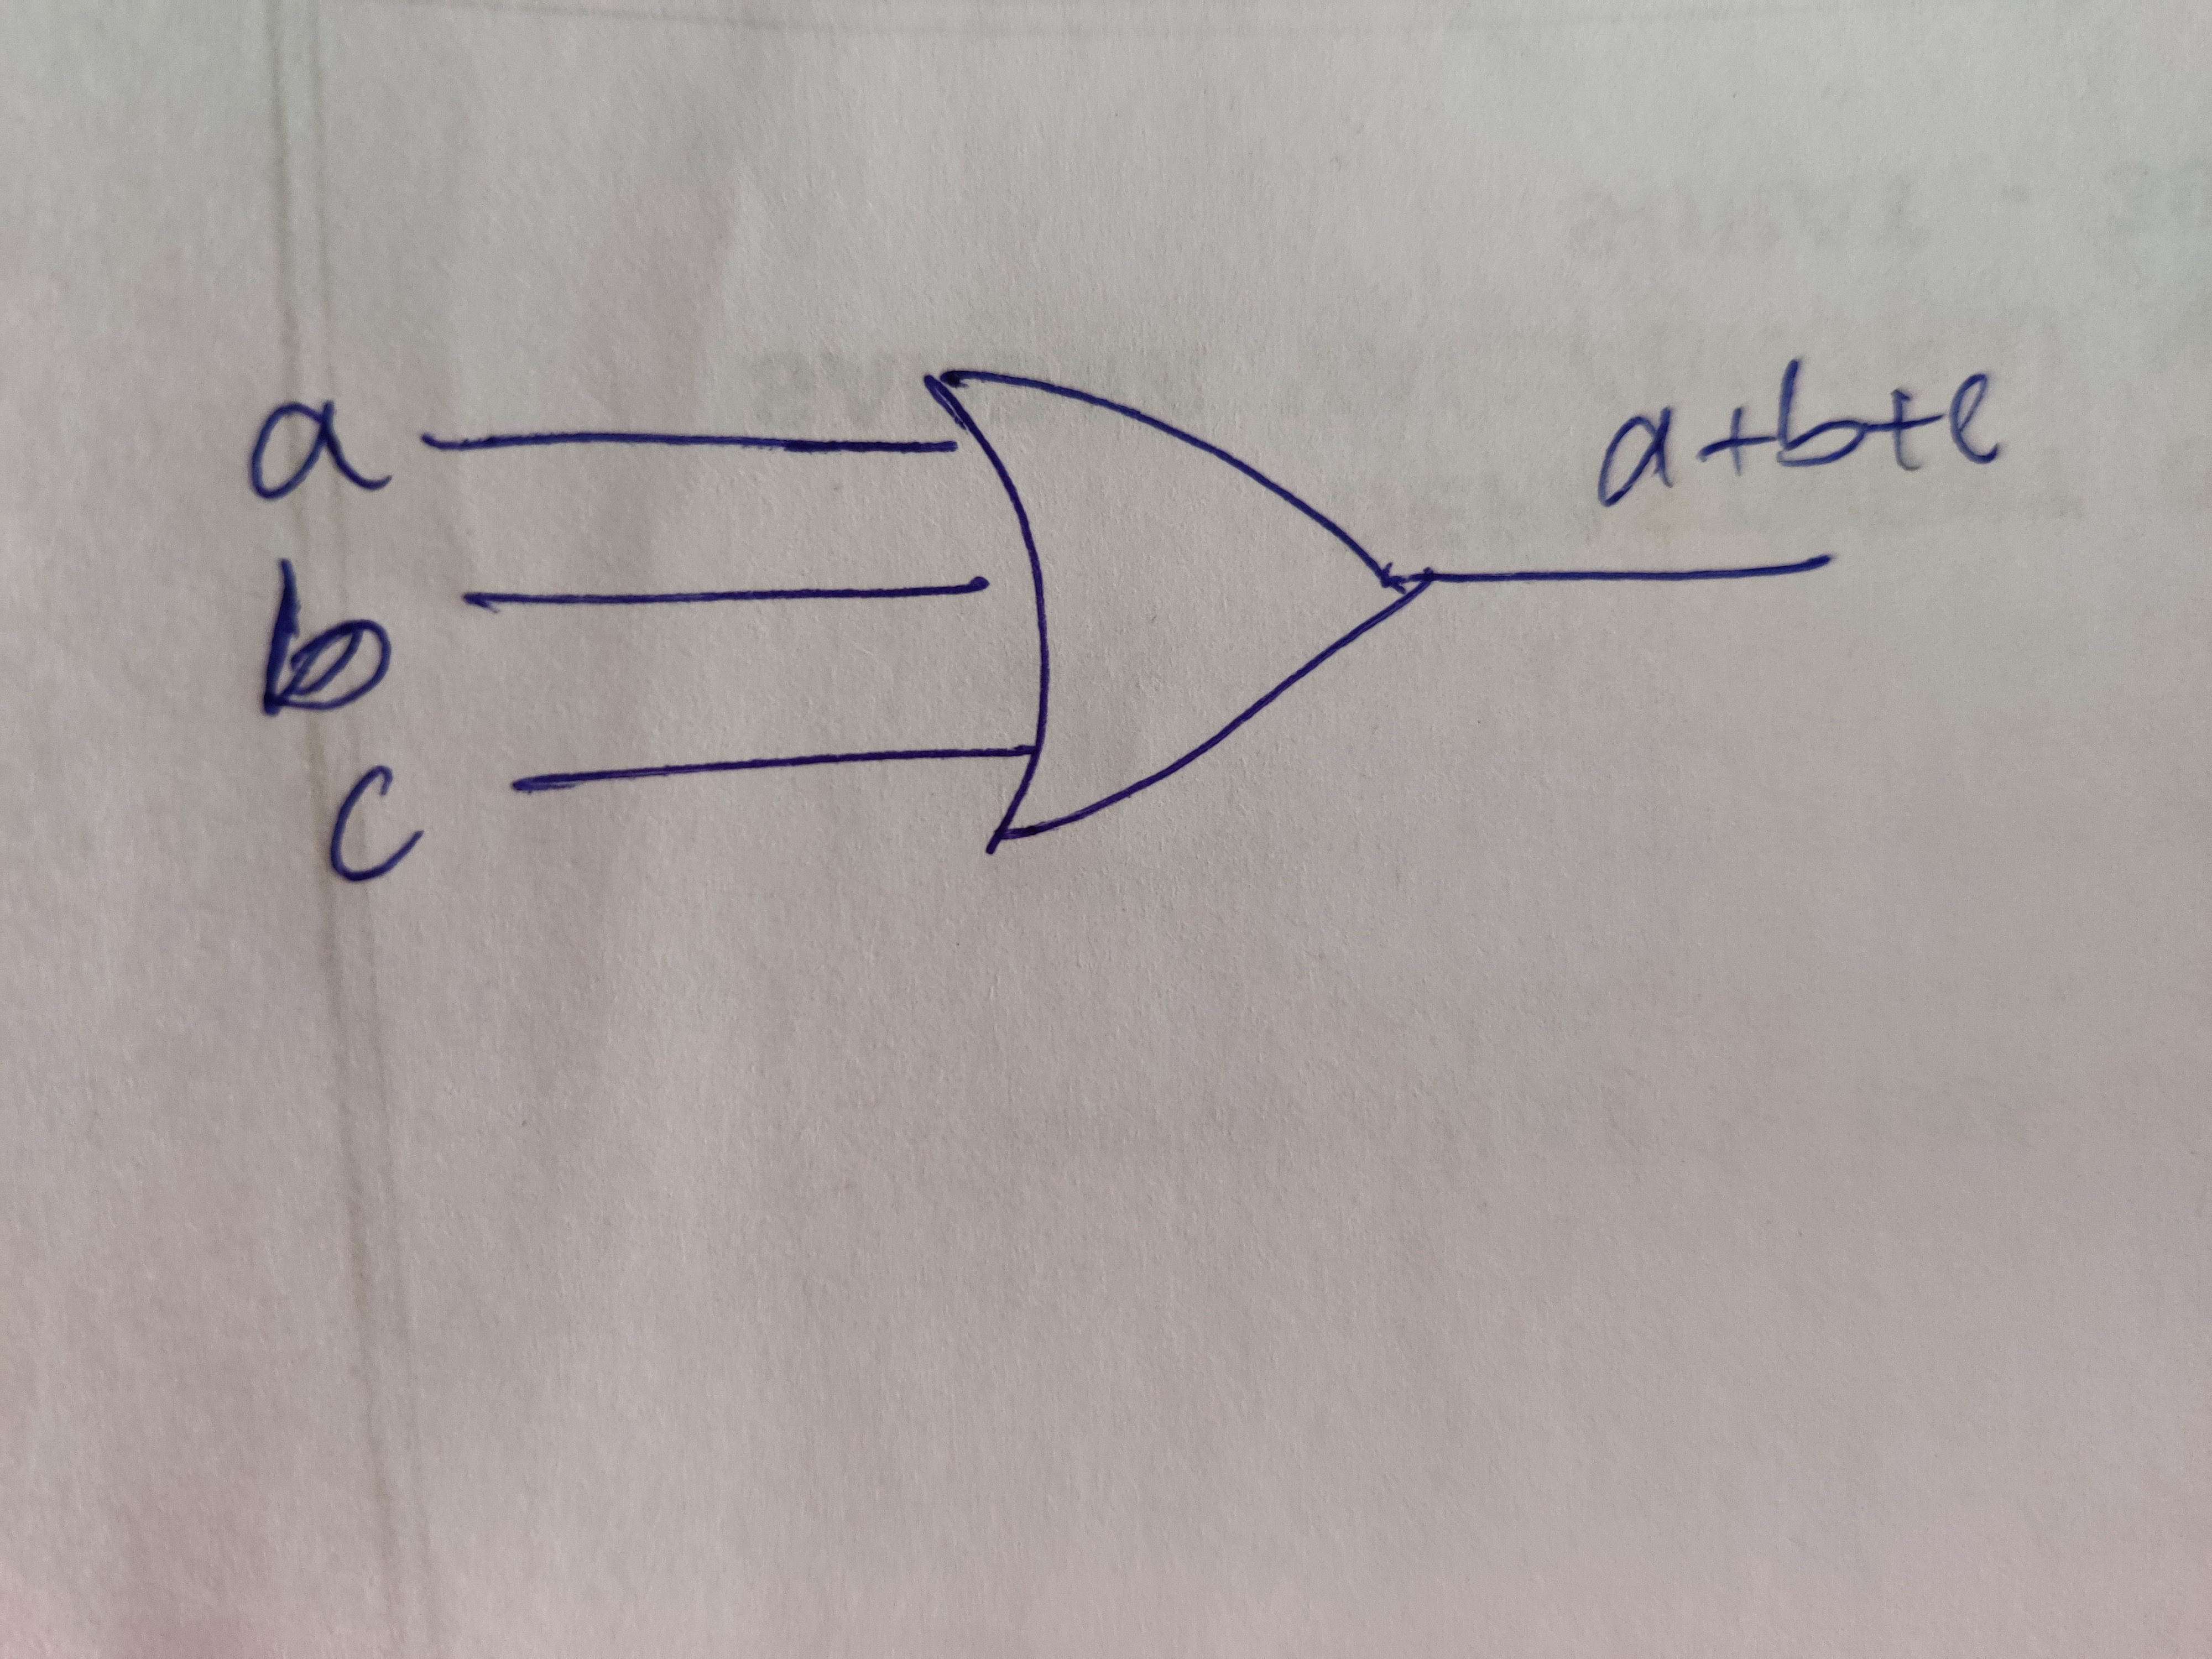or: (820, 282, 1493, 906)
